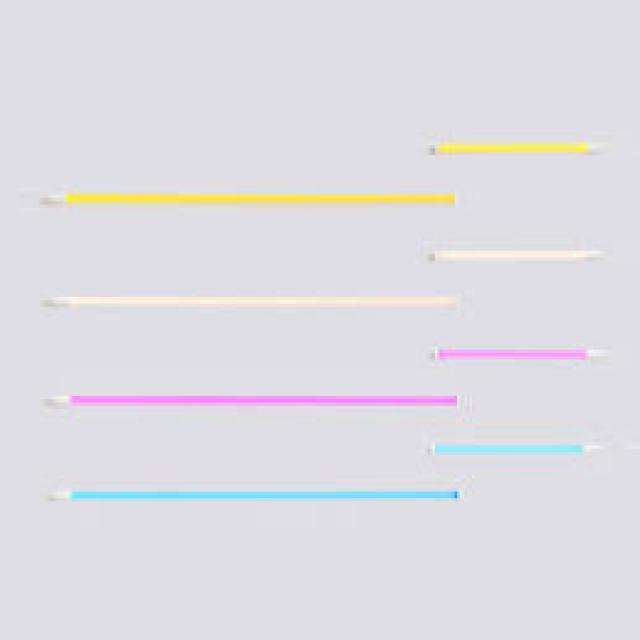tubelight_off: (43, 290, 471, 311), (53, 486, 471, 505), (39, 192, 471, 210), (47, 394, 465, 410), (432, 437, 596, 462), (427, 136, 604, 157), (426, 250, 610, 269), (434, 342, 600, 361)
